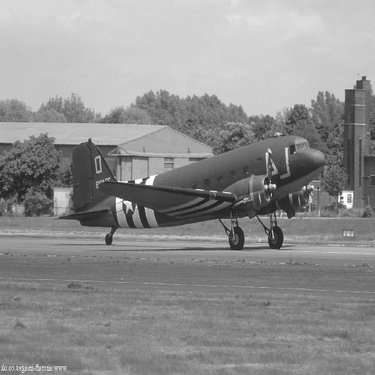airplane: (39, 126, 339, 261)
